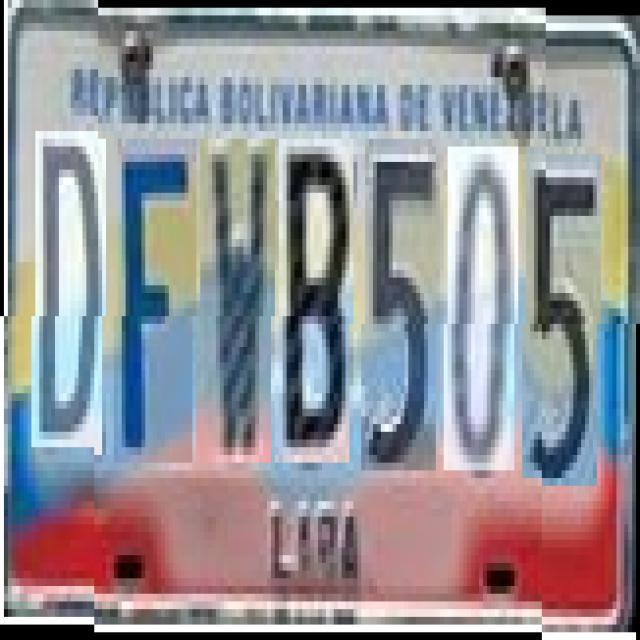5: (365, 138, 440, 470), (526, 146, 601, 478)
B: (278, 138, 354, 462)
D: (35, 139, 106, 455)
F: (118, 138, 196, 462)
O: (448, 147, 518, 470)
W: (200, 138, 275, 462)
